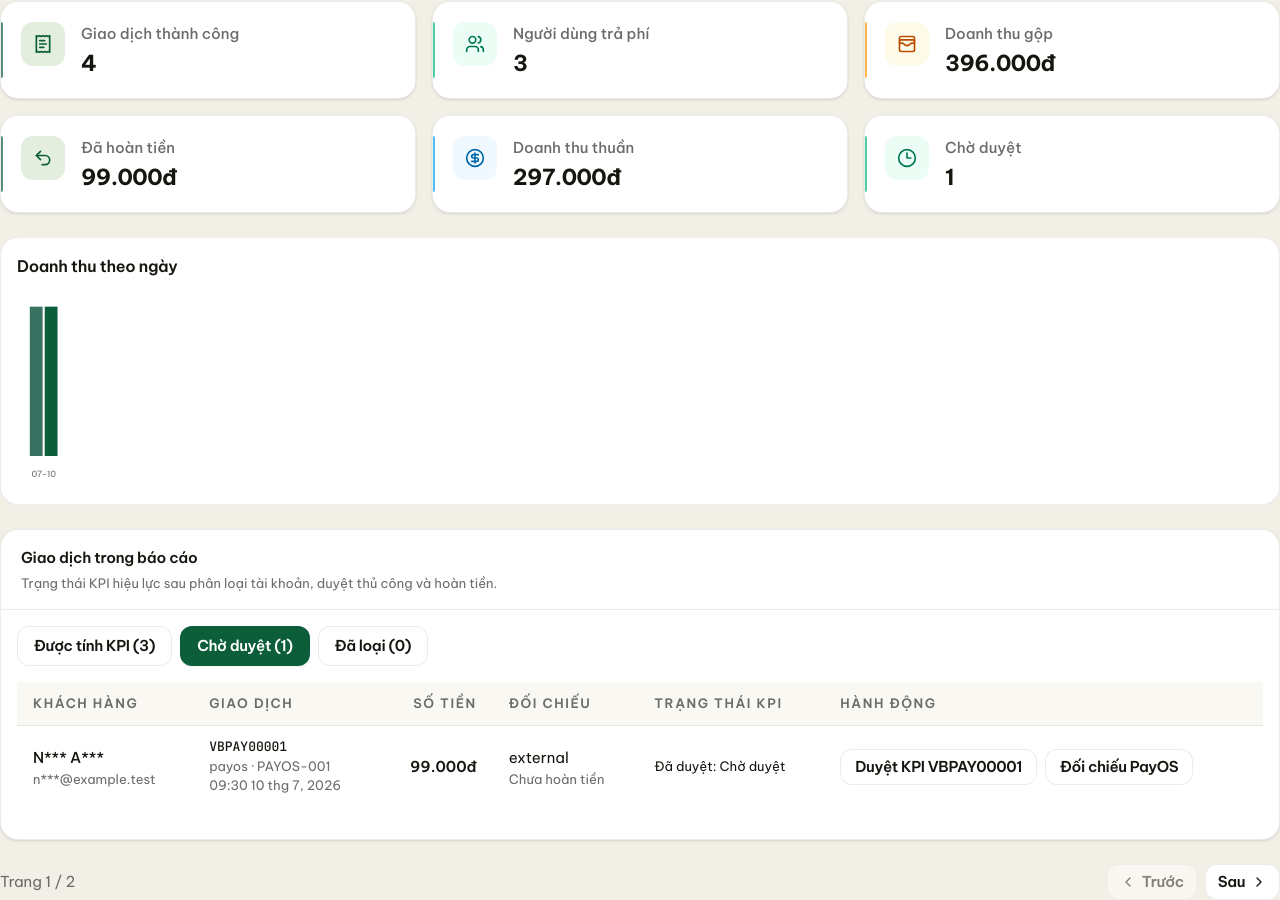
Test case: AdminSalesReportPage › validates manual inclusions and excluded orders before enabling confirmation
(page scrolled)
Click the button "Duyệt KPI VBPAY00001": (939, 766) [840,748,1037,784]
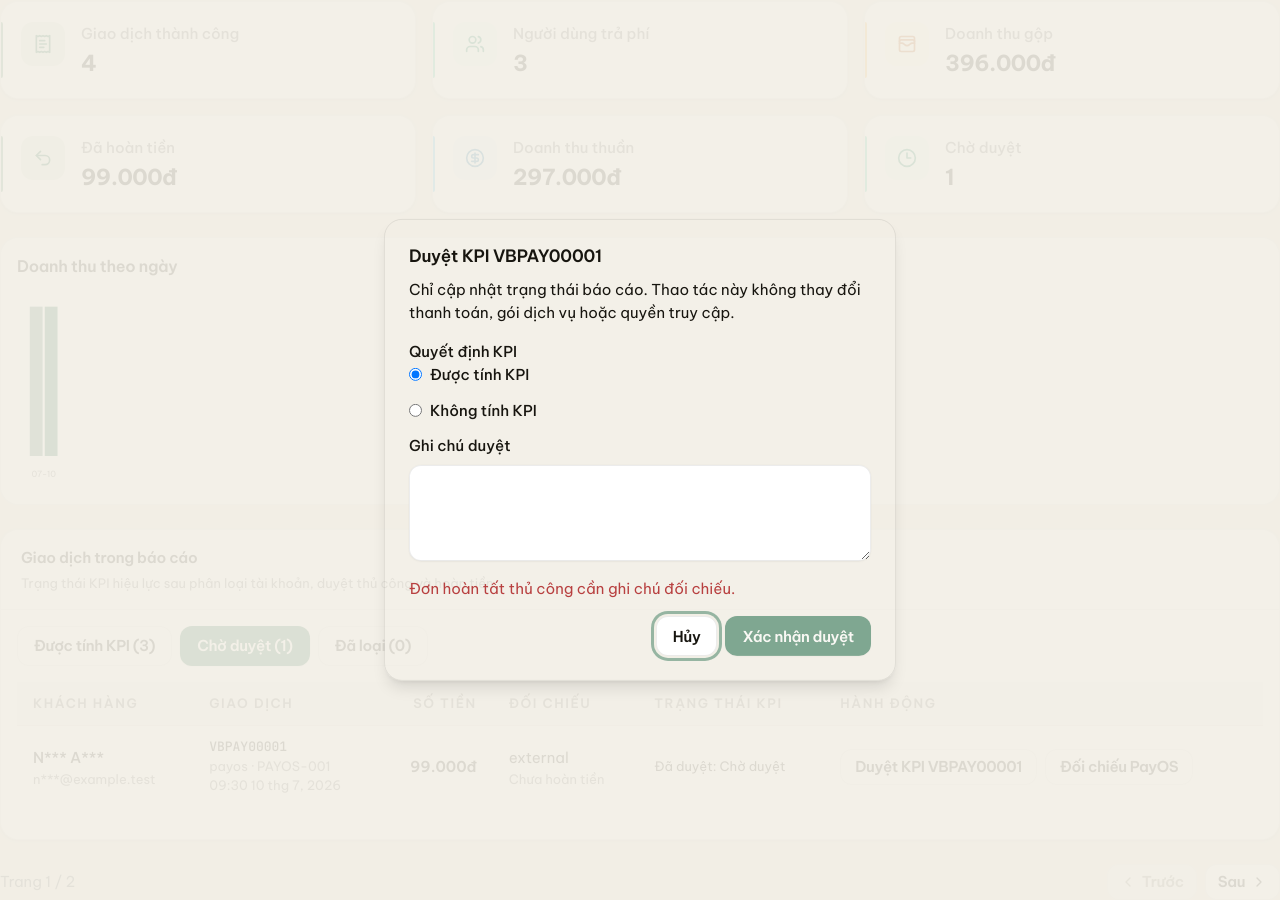
Now the button "Xác nhận duyệt" is disabled, box [726,616,871,656]
Click the radio button labelled "Không tính KPI": (416, 410) [409,404,422,416]
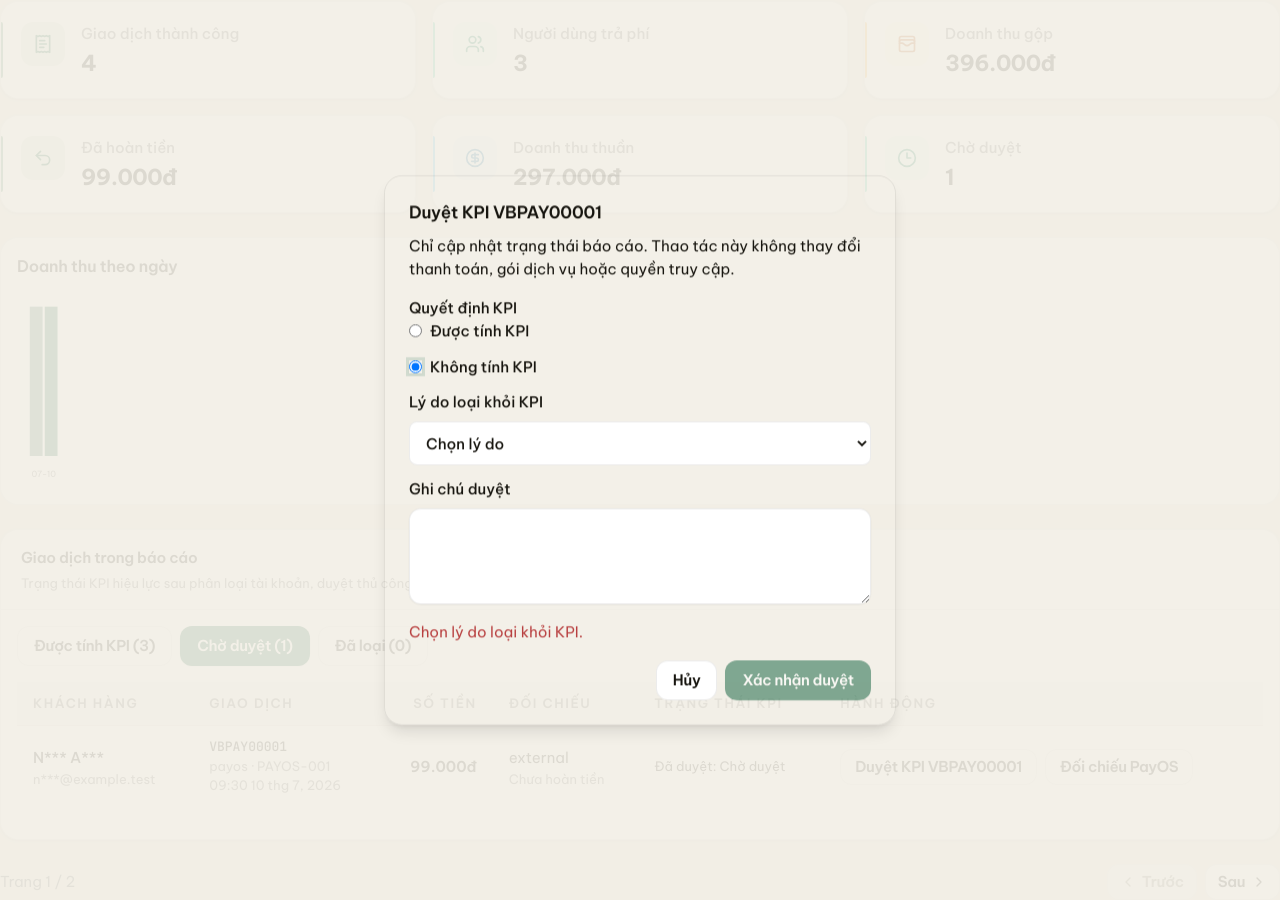
Now the text "Chọn lý do loại khỏi KPI." is shown, box [409,622,583,642]
Select "Lý do khác" in the dropdown labelled "Lý do loại khỏi KPI": (640, 443) [409,421,871,465]
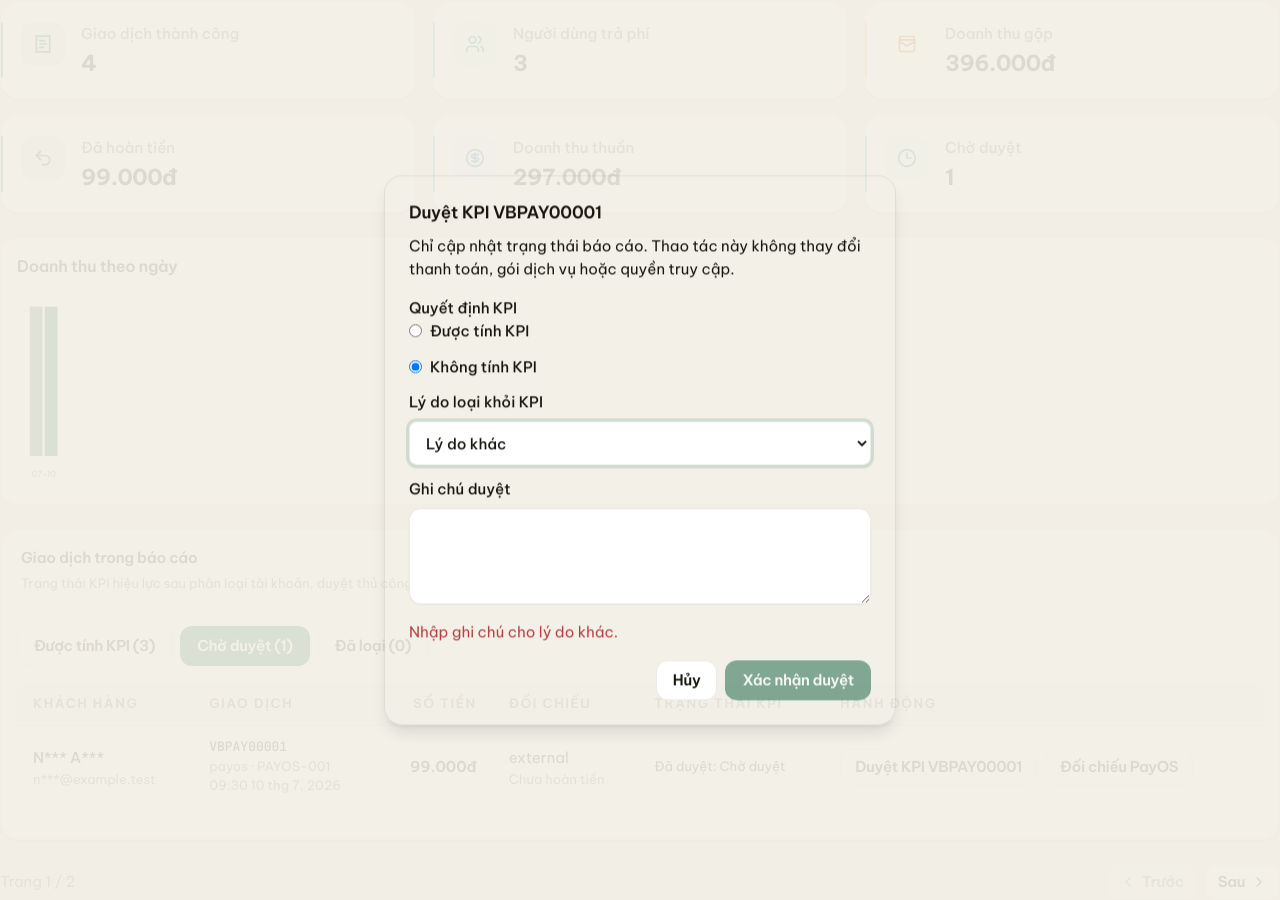
Now the text "Nhập ghi chú cho lý do khác." is shown, box [409,622,618,642]
In the text box labelled "Ghi chú duyệt": (640, 556) [409,508,871,604], type "Không phải giao dịch doanh thu."
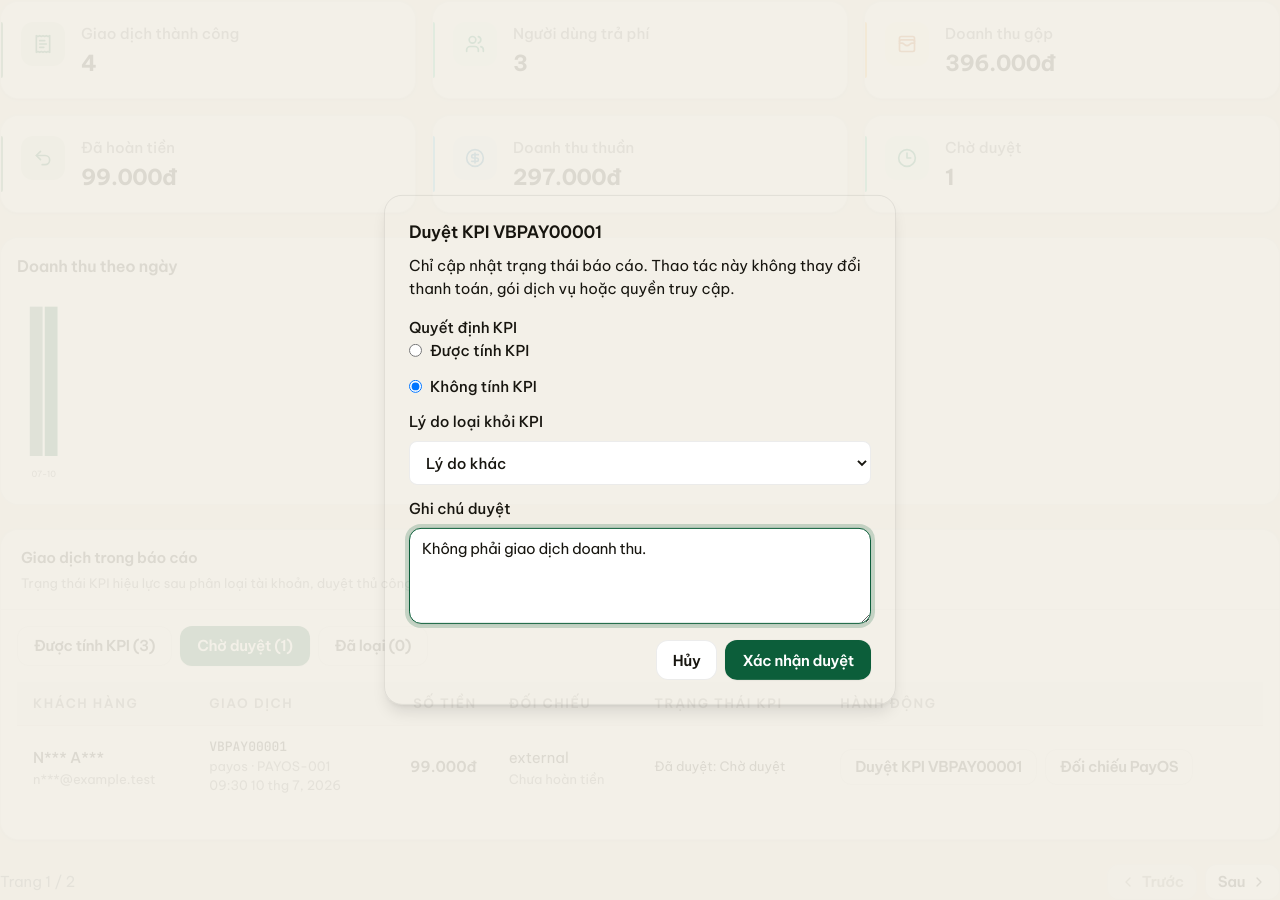
Now the button "Xác nhận duyệt" is enabled, box [726,640,871,680]
